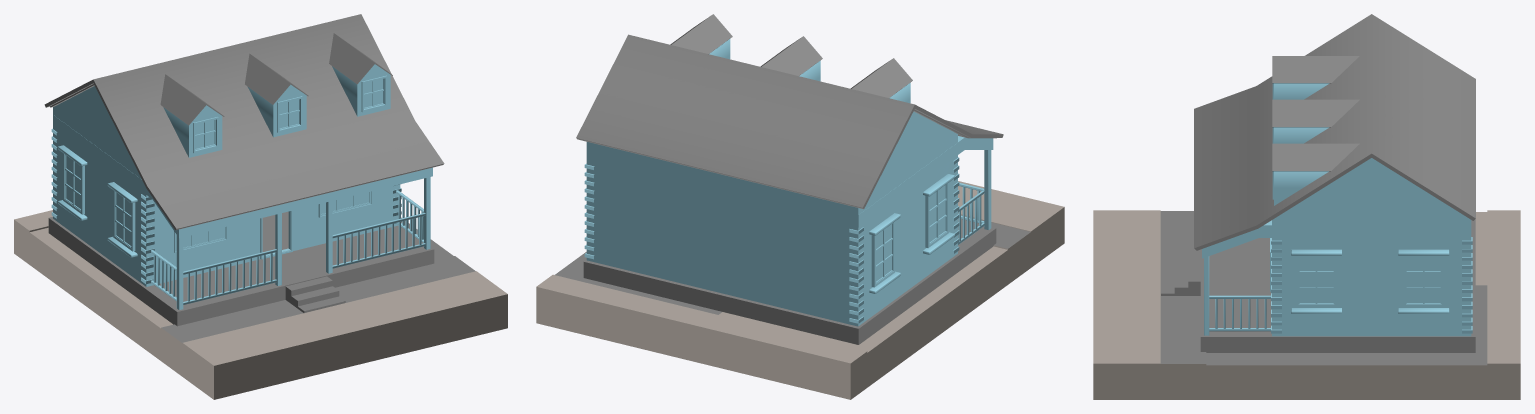
File: 1fcaf926-c1ba-4b2d-bb28-c500e4de1a9d.glb
The picture shows the model from 3 angles, left to right: view 1: azimuth 30°, elevation 25°; view 2: azimuth 150°, elevation 25°; view 3: azimuth 270°, elevation 25°; orthographic projection. The views are drawn at different scales.
Parts seen in each view (by area): view 1: roof, ground, walls, foundation, rails, cube:roof:2, window, ceil, top:rooms, 2nd:windows, pillars, front:steps (+2 smaller); view 2: walls, roof, ground, foundation, cube:roof:2, 2nd:windows, ceil, walldec, rails, windeco, top:rooms, pillars; view 3: ground, roof, walls, foundation, cube:roof:2, 2nd:windows, ceil, top:rooms, windeco, walldec, front:steps, rails (+1 smaller).
Part boxes in pixels (x1,y1,x2,y2): roof: [44, 14, 444, 230]; ground: [14, 210, 507, 399]; walls: [53, 86, 400, 286]; foundation: [48, 211, 434, 326]; rails: [151, 190, 425, 304]; cube:roof:2: [160, 33, 392, 125]; window: [174, 75, 386, 252]; ceil: [53, 115, 432, 237]; top:rooms: [163, 64, 390, 157]; 2nd:windows: [63, 153, 135, 251]; pillars: [176, 177, 430, 309]; front:steps: [285, 276, 345, 312]; walls: [586, 111, 957, 326]; roof: [576, 34, 1003, 209]; ground: [536, 181, 1064, 399]; foundation: [583, 219, 996, 344]; cube:roof:2: [670, 14, 912, 97]; 2nd:windows: [871, 182, 948, 287]; ceil: [858, 136, 993, 227]; walldec: [584, 157, 959, 323]; rails: [958, 182, 984, 244]; windeco: [869, 174, 954, 293]; top:rooms: [709, 39, 910, 103]; pillars: [984, 150, 991, 229]; ground: [1093, 210, 1520, 399]; roof: [1194, 14, 1475, 250]; walls: [1272, 158, 1471, 336]; foundation: [1200, 219, 1475, 352]; cube:roof:2: [1272, 56, 1359, 171]; 2nd:windows: [1296, 256, 1444, 307]; ceil: [1202, 220, 1470, 258]; top:rooms: [1274, 83, 1329, 205]; windeco: [1291, 249, 1449, 313]; walldec: [1271, 237, 1472, 333]; front:steps: [1161, 260, 1200, 295]; rails: [1209, 295, 1270, 331].
Bounding box in the file's own units: 22.47 × 16.28 × 26.48.
